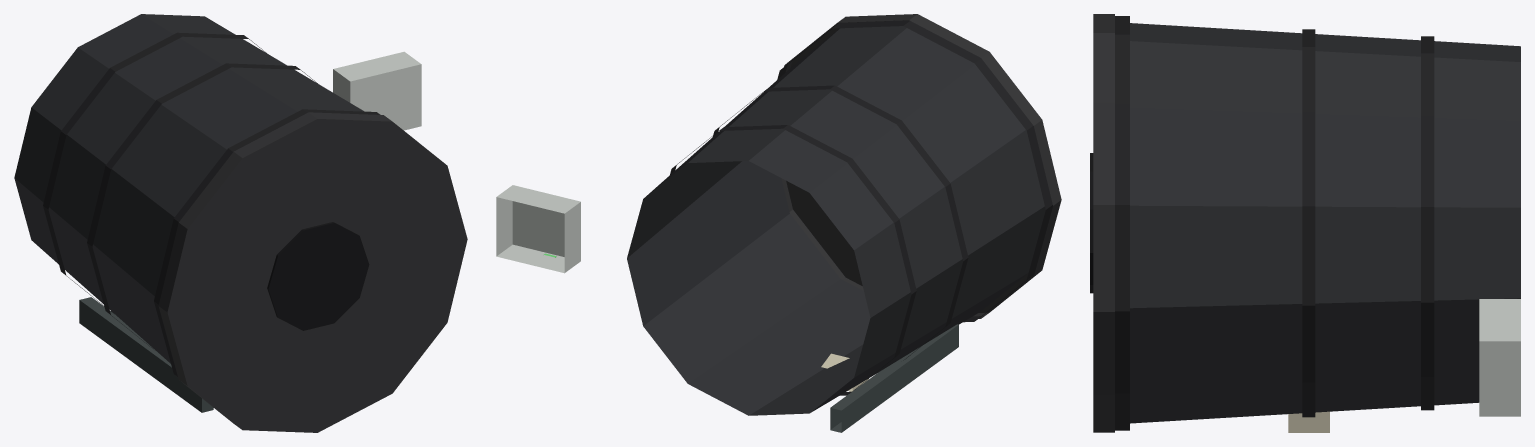
Rendered from a_dwc.obj.
The picture shows the model from 3 angles, left to right: view 1: azimuth 30°, elevation 25°; view 2: azimuth 150°, elevation 25°; view 3: azimuth 270°, elevation 25°; orthographic projection. The views are drawn at different scales.
Bounding box in the file's own units: 0.6959 × 0.5079 × 0.5182.
Materials: 1 (1 with a texture image).
